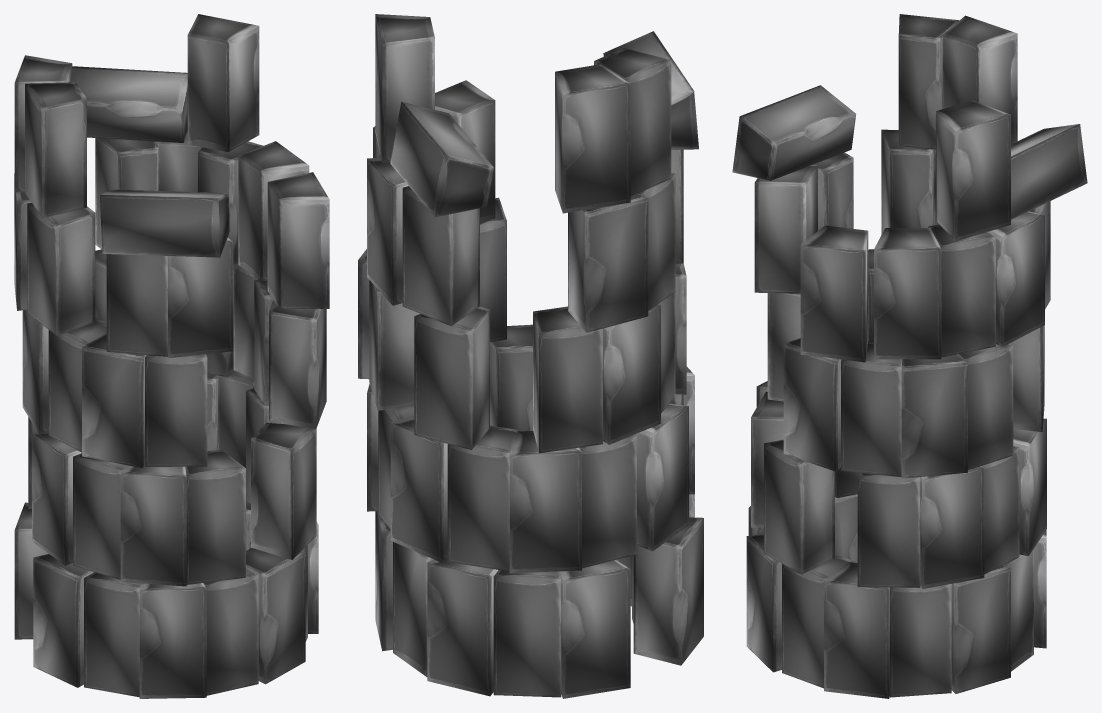
Rendered from brick_pillar.fbx.
3 renders of one model, left to right at view 1: azimuth 30°, elevation 25°; view 2: azimuth 150°, elevation 25°; view 3: azimuth 270°, elevation 25°, orthographic. The views are drawn at different scales.
Visible parts, largest first — view 1: brick_pillar; view 2: brick_pillar; view 3: brick_pillar.
Boxes of the visible parts, <box> form: brick_pillar: <box>14,14,329,698</box>; brick_pillar: <box>358,14,703,698</box>; brick_pillar: <box>732,14,1087,698</box>.
Size of the model in its own units: 2.74 by 5.33 by 3.03.
